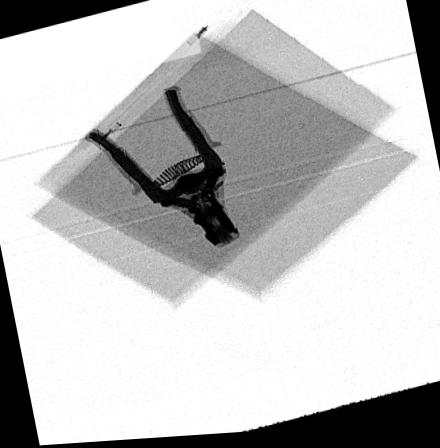Pliers: (85, 90, 241, 254)
